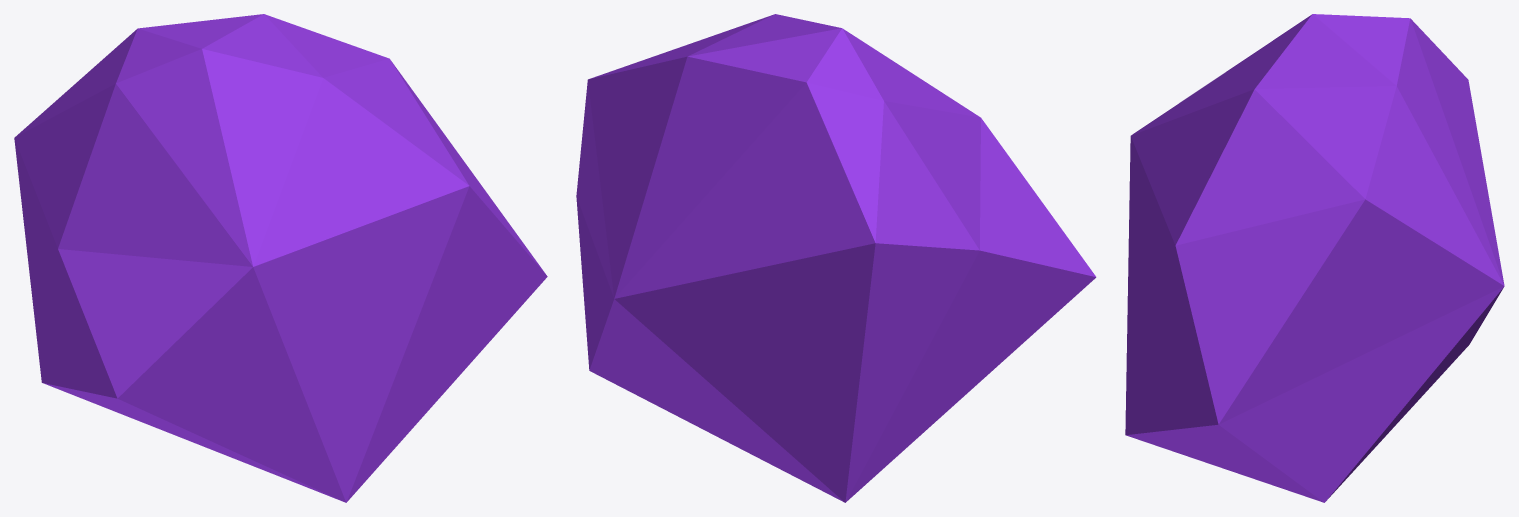
The model's file is Heather.fbx.
3 views of the same model, side by side, from view 1: azimuth 30°, elevation 25°; view 2: azimuth 150°, elevation 25°; view 3: azimuth 270°, elevation 25° (orthographic). The views are drawn at different scales.
Parts seen in each view (by area): view 1: Heather; view 2: Heather; view 3: Heather.
Boxes of the visible parts, bbox=[...] form: Heather: bbox=[14, 14, 547, 502]; Heather: bbox=[576, 14, 1096, 502]; Heather: bbox=[1125, 14, 1504, 502].
Bounding box in the file's own units: 116 × 95.85 × 83.04.
